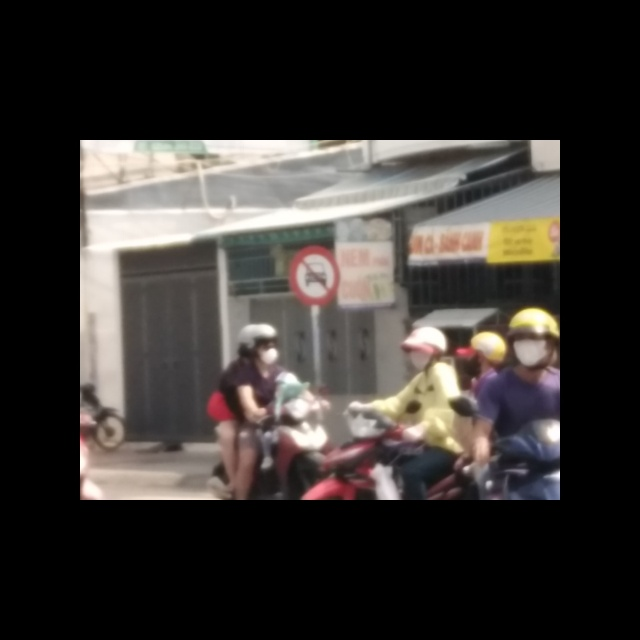Cấm xe ô tô: (288, 245, 343, 308)
